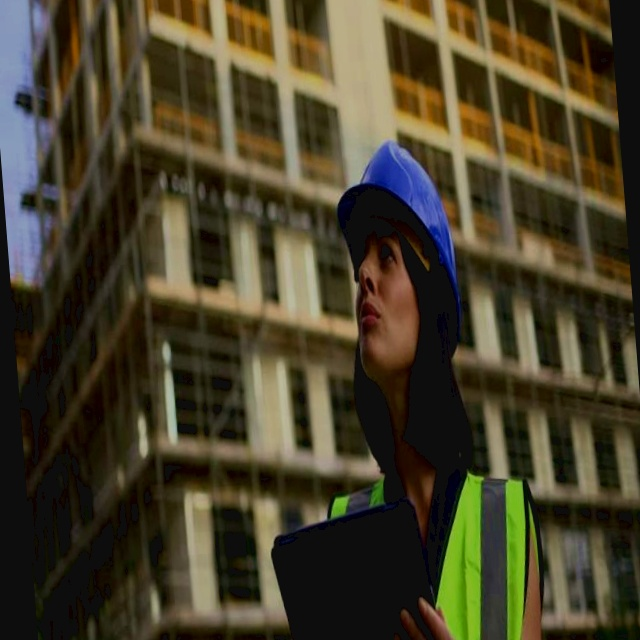Con_Casco: (330, 137, 468, 429)
